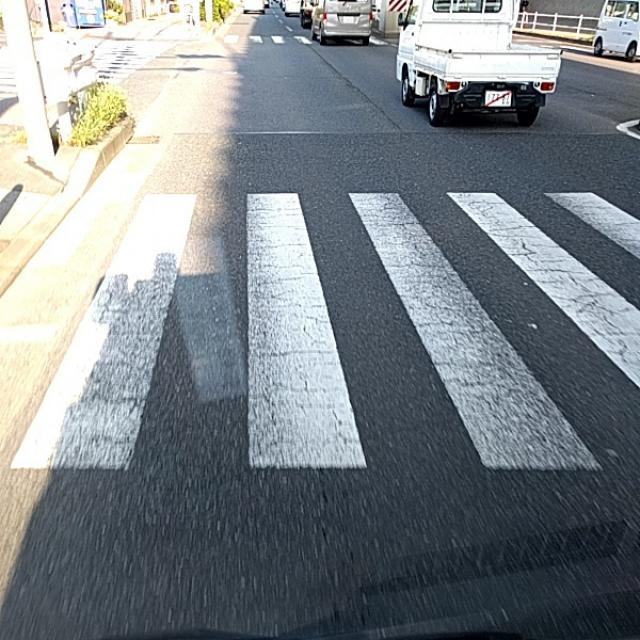pothole: (234, 302, 328, 445)
